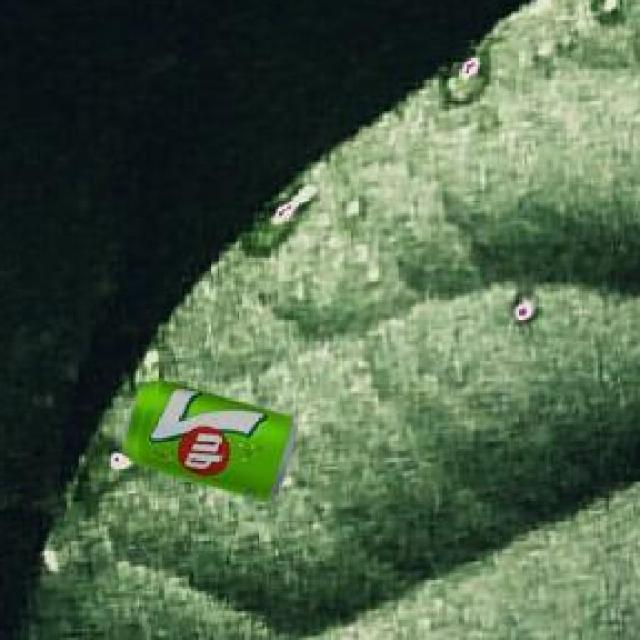logam: (126, 377, 299, 497)
